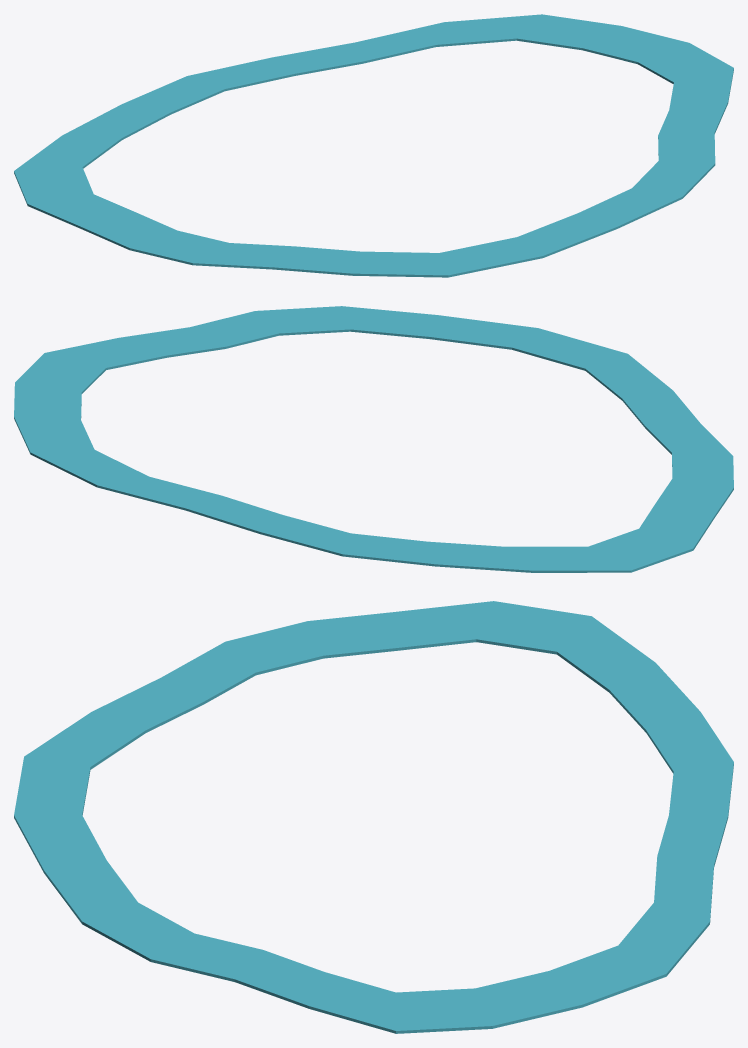
3 views of the same model, one above another, from view 1: azimuth 30°, elevation 25°; view 2: azimuth 150°, elevation 25°; view 3: azimuth 270°, elevation 25° (orthographic). The views are drawn at different scales.
Visible parts, largest first — view 1: 瀑底潭_浅水环2.001; view 2: 瀑底潭_浅水环2.001; view 3: 瀑底潭_浅水环2.001.
Boxes of the visible parts, <box> form: 瀑底潭_浅水环2.001: <box>14,14,733,277</box>; 瀑底潭_浅水环2.001: <box>14,306,733,572</box>; 瀑底潭_浅水环2.001: <box>14,601,733,1033</box>.
Bounding box in the file's own units: 1.29 × 0.004 × 0.9145.
